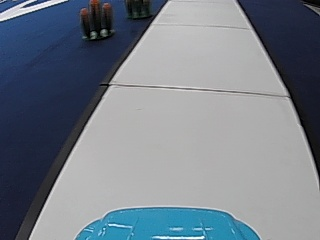corn: (80, 0, 115, 40), (126, 0, 151, 18)
